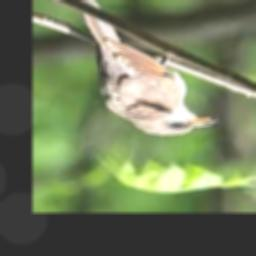Cuckoo: (77, 0, 217, 135)
